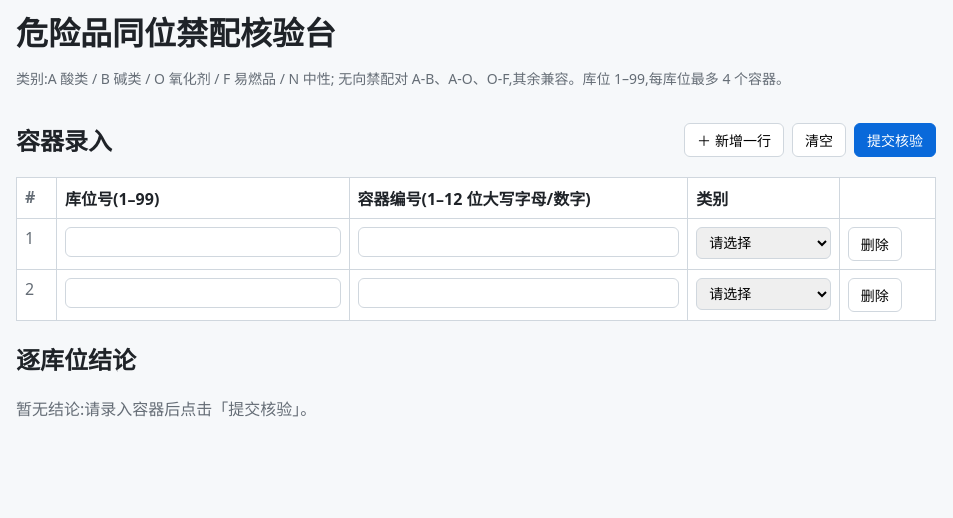
Test case: App 核验台交互 › 清空按钮清除录入、旧结论与错误标记
Click the button with test id "submit" at x=895, y=140, box [854,123,936,157]
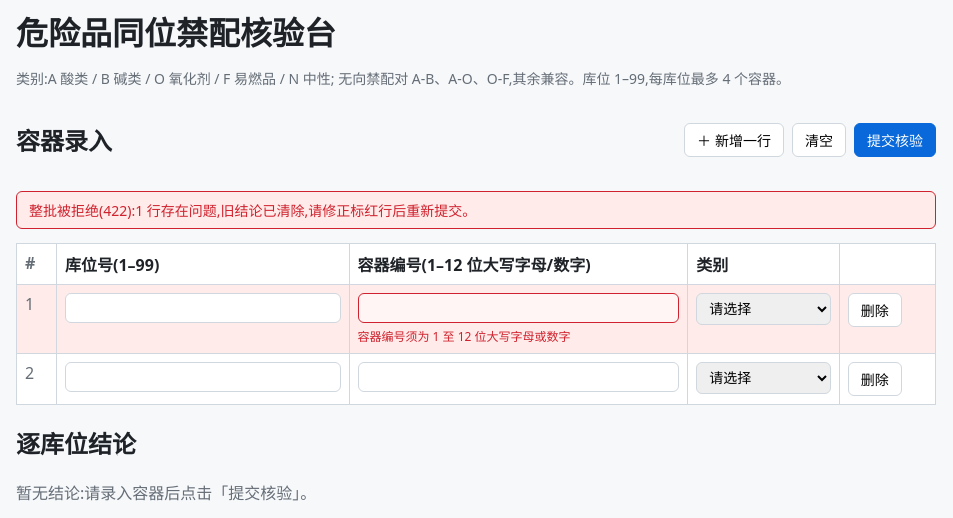
Now the message "整批被拒绝(422):1 行存在问题,旧结论已清除,请修正标红行后重新提交。" is shown, box [16,191,936,229]
Click the button with test id "clear-rows" at x=819, y=140, box [792,123,846,157]
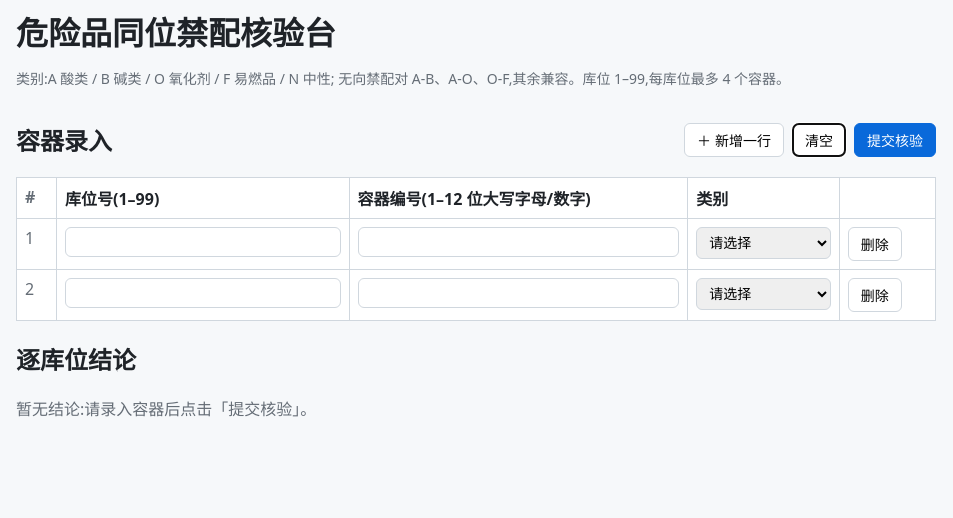
Expected: the field with test id "slot-0" is empty, [65,227,340,257]
Now the message with test id "batch-banner" is gone
